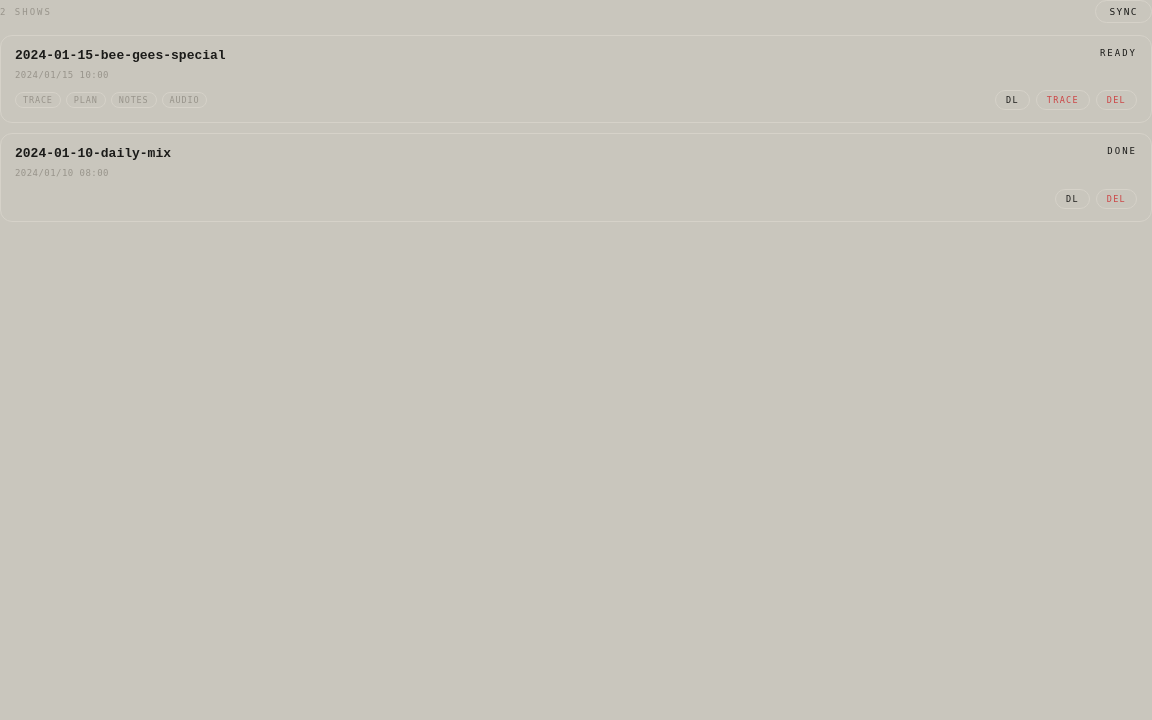
ShowLibrary 历史节目库 › 点击删除 trace 时显示确认对话框
The image size is (1152, 720).
Check: the text "2024-01-15-bee-gees-special" is shown, box x1=15 y1=48 x2=226 y2=63
Click the button "TRACE". click: [1063, 100]
box: x1=1036 y1=90 x2=1090 y2=110
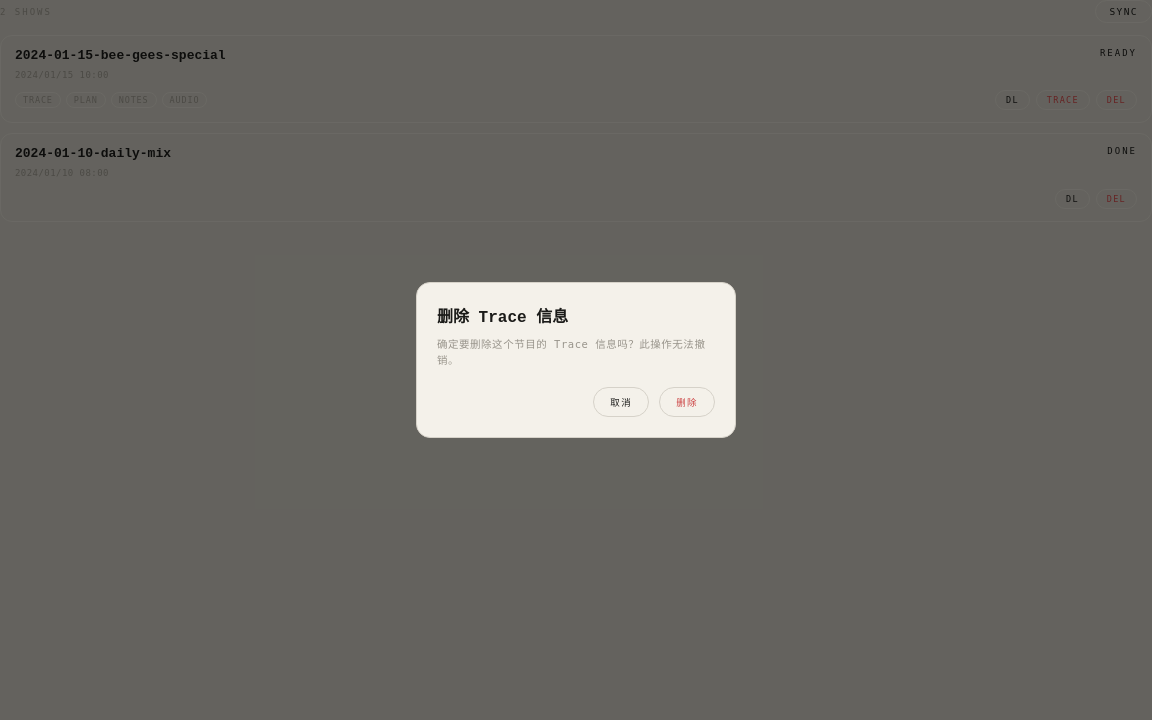
Check: the heading "删除 Trace 信息" is shown, box x1=437 y1=309 x2=568 y2=327
